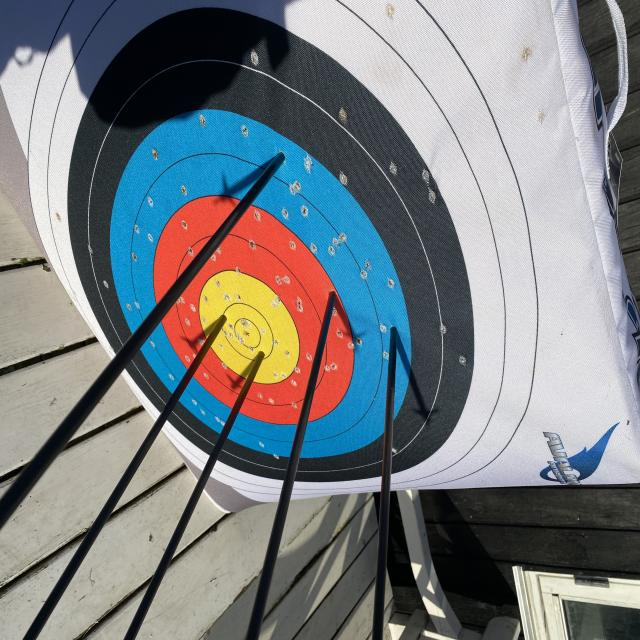Arrow_Blue: (254, 134, 305, 186), (386, 312, 408, 348)
Arrow_Red: (321, 284, 345, 315)
Arrow_Yellow: (212, 305, 236, 335), (248, 340, 270, 370)
